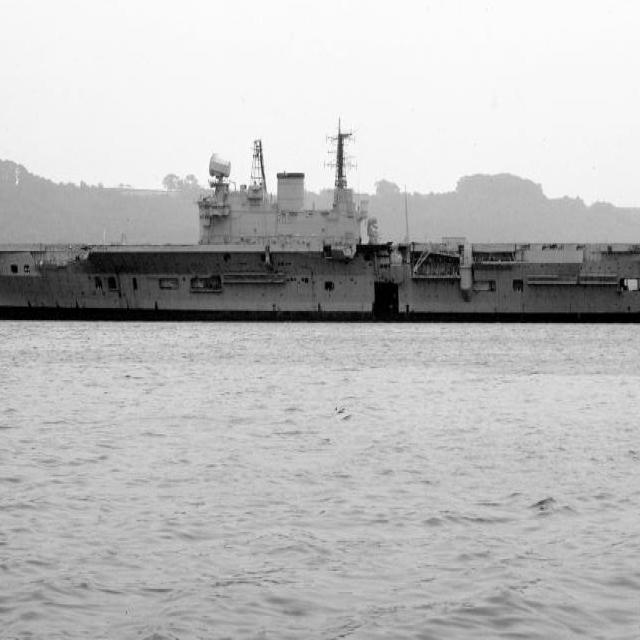Portanaves: (1, 111, 640, 327)
